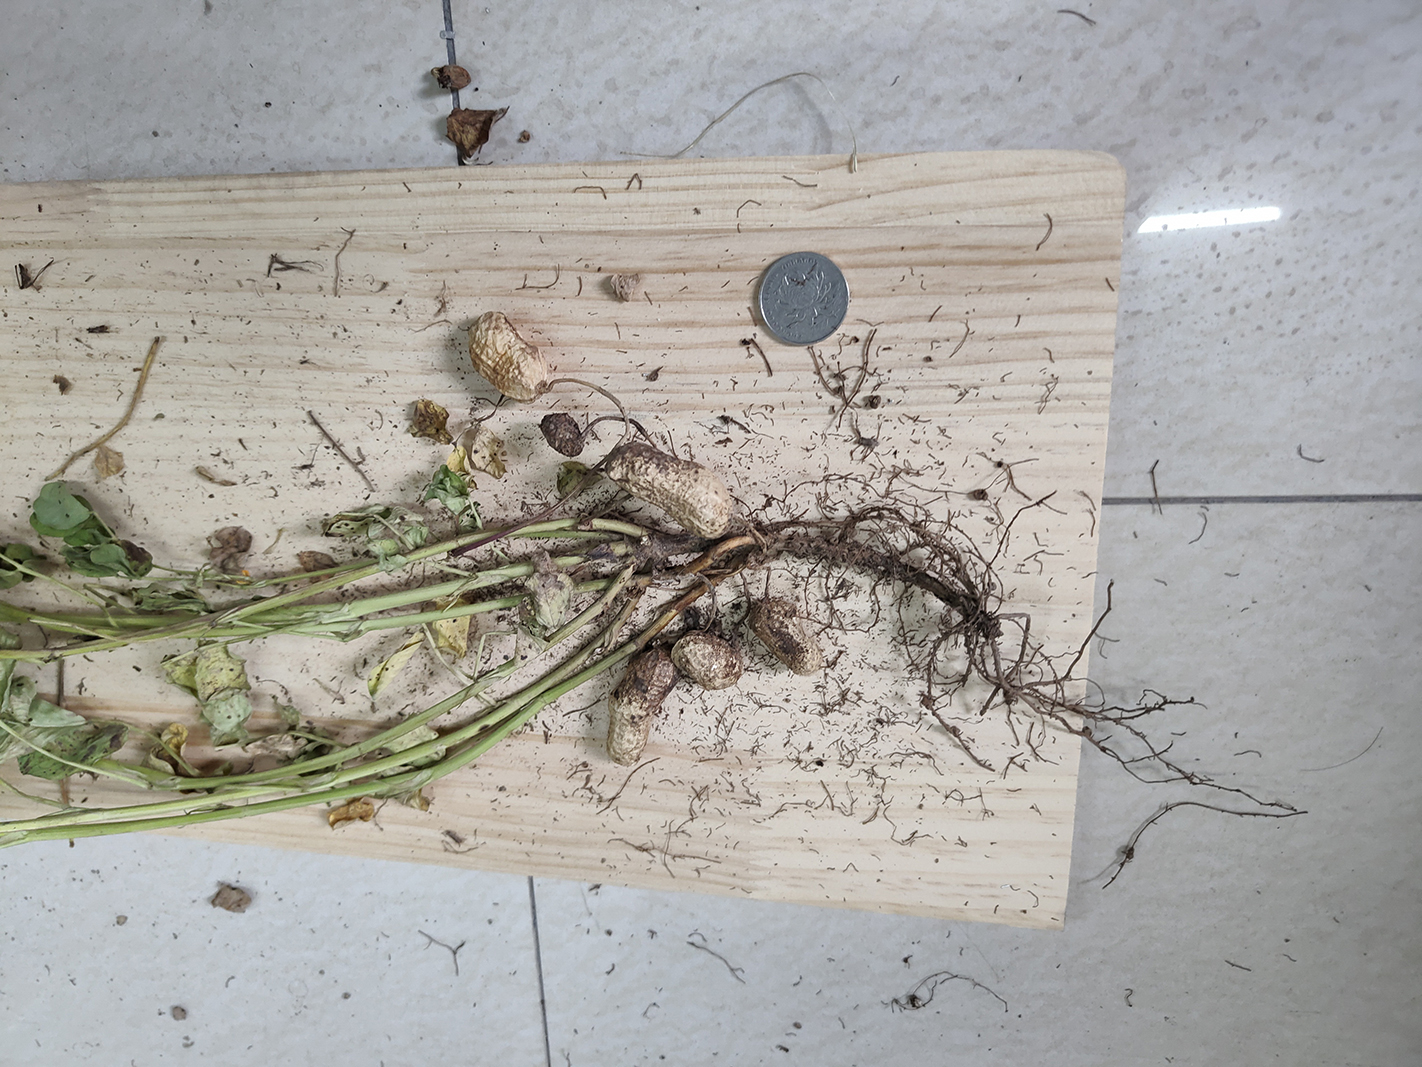h: (608, 443, 732, 540), (608, 648, 676, 766), (468, 312, 551, 403), (673, 633, 741, 689)
l: (750, 600, 824, 674), (538, 415, 584, 457)
